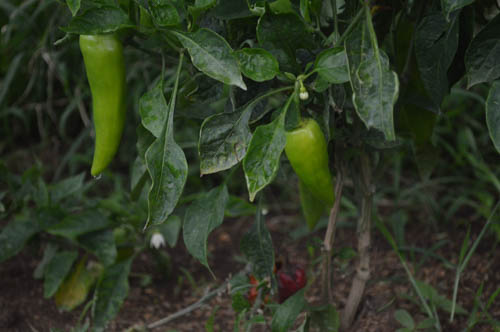ChiliPepper: (77, 36, 124, 180), (287, 122, 332, 205)
